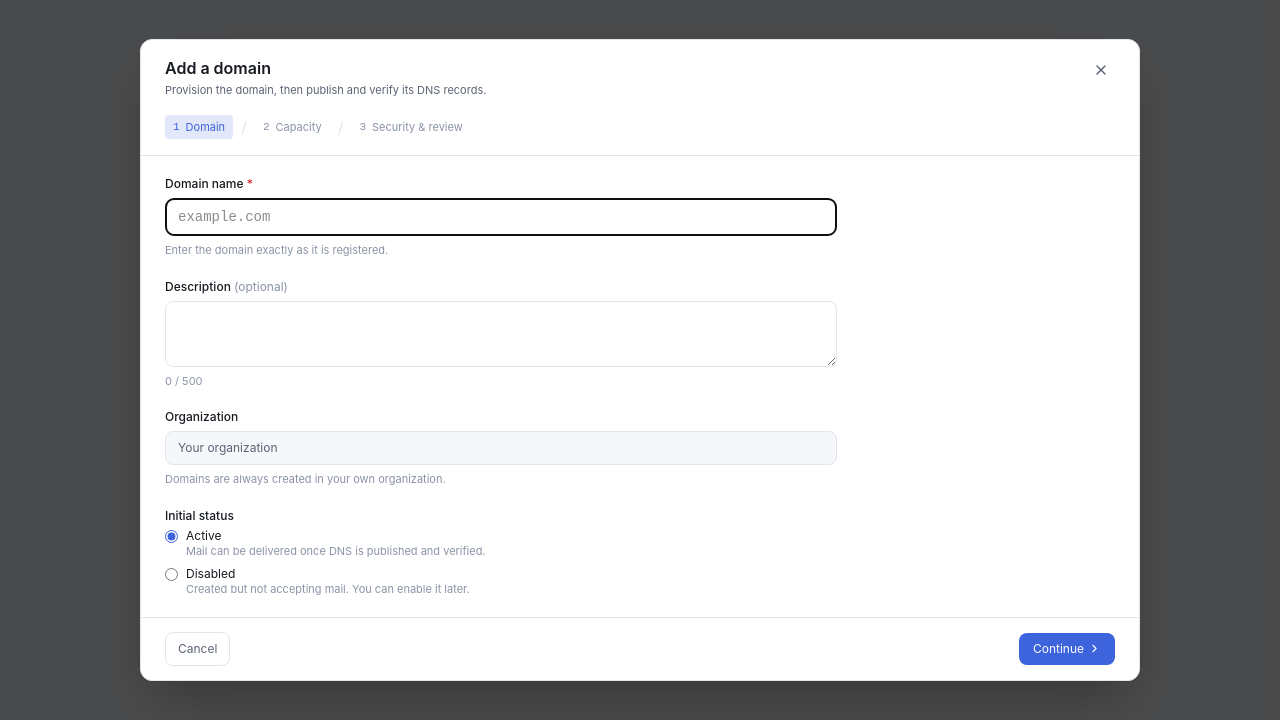
Scenario: wizard accessibility › moves focus to the error summary when validation fails
The width and height of the screenshot is (1280, 720).
Click the button "Continue" at coordinates (1067, 649), box [1019,633,1115,665]
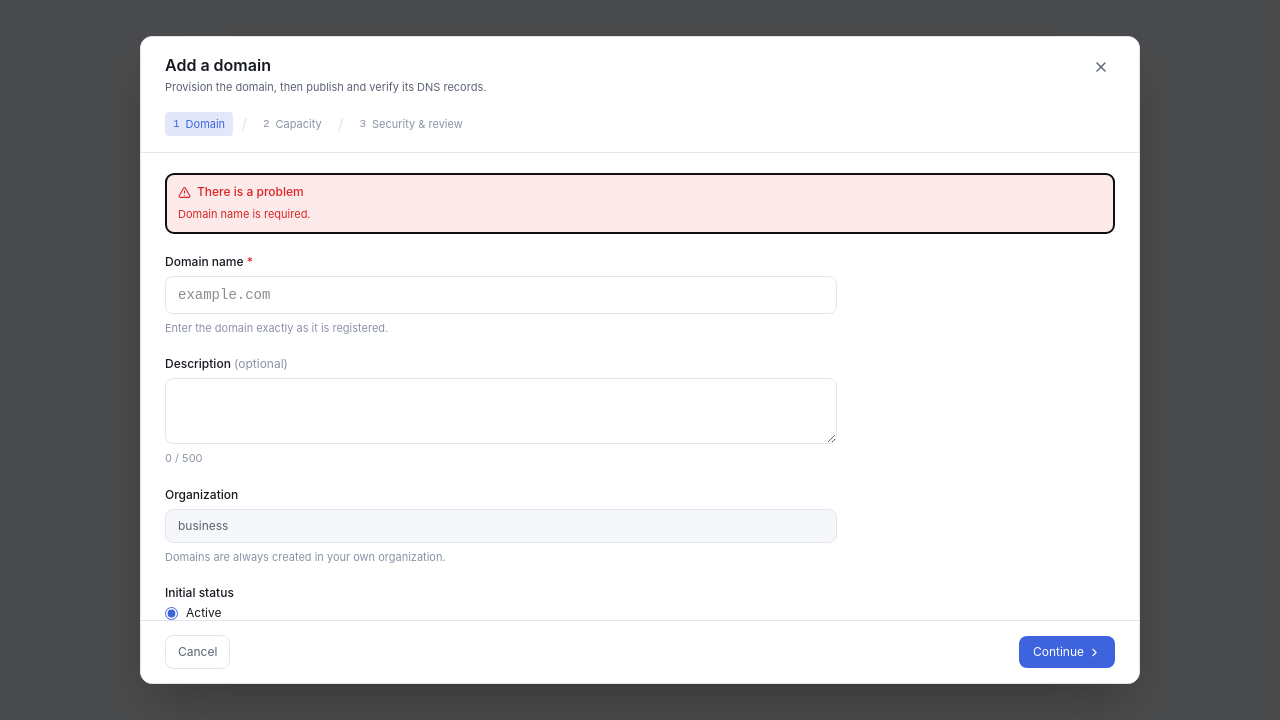
Now the message "There is a problem Domain name is required." is shown, box [165,173,1115,234]
